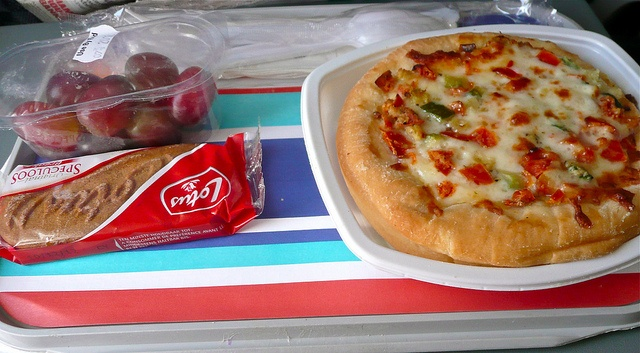Pizza: (328, 23, 640, 264)
